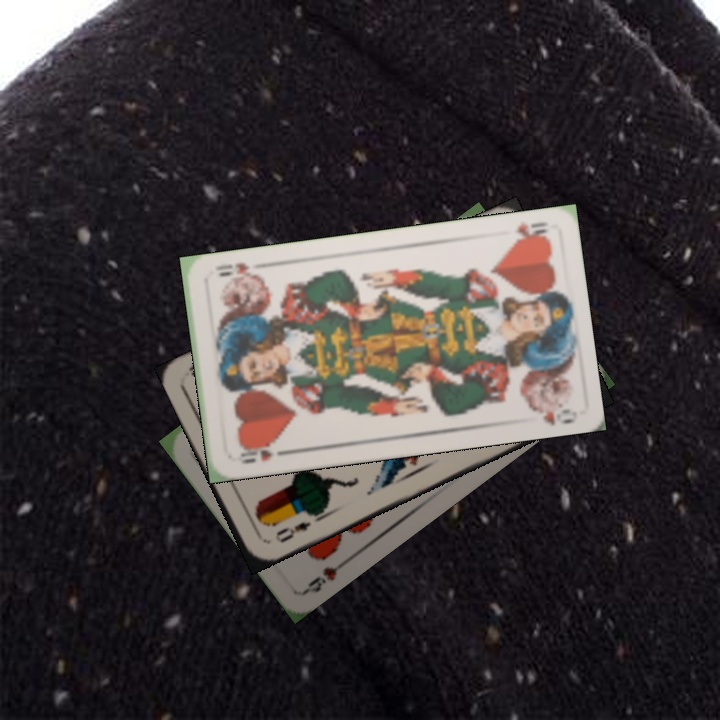EO: (271, 517, 314, 546)
H9: (301, 554, 352, 596)
HO: (235, 439, 290, 466), (509, 218, 552, 246)
